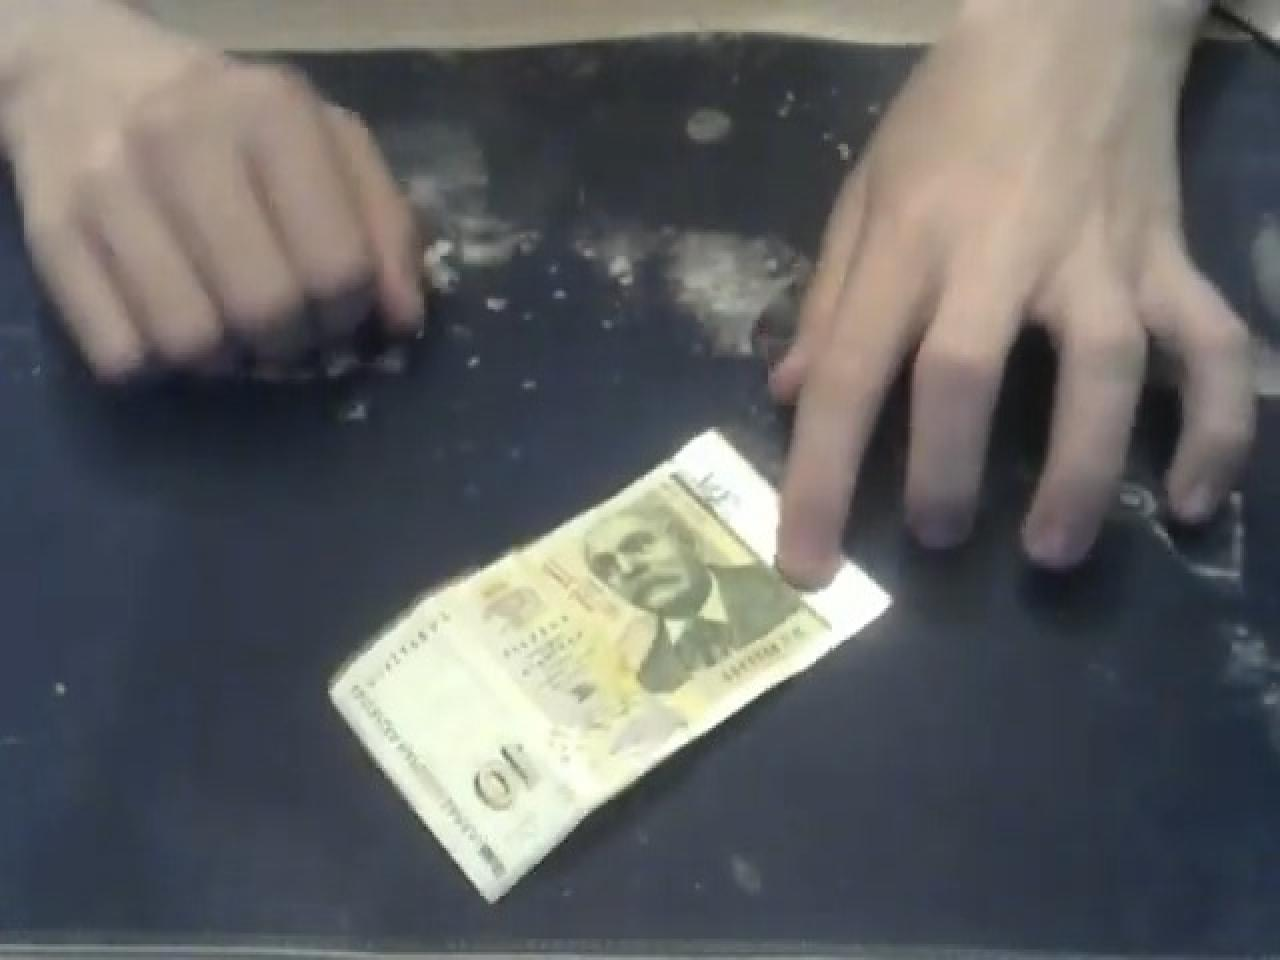10leva: (456, 724, 554, 834)
